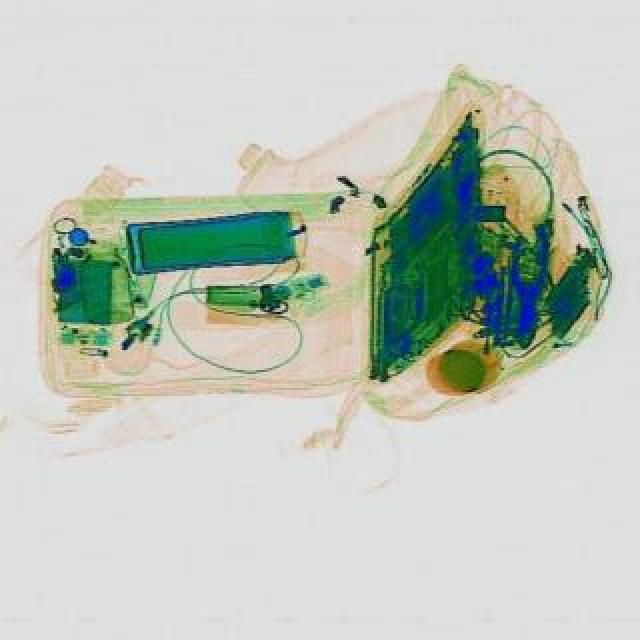wrench: (504, 226, 548, 346)
